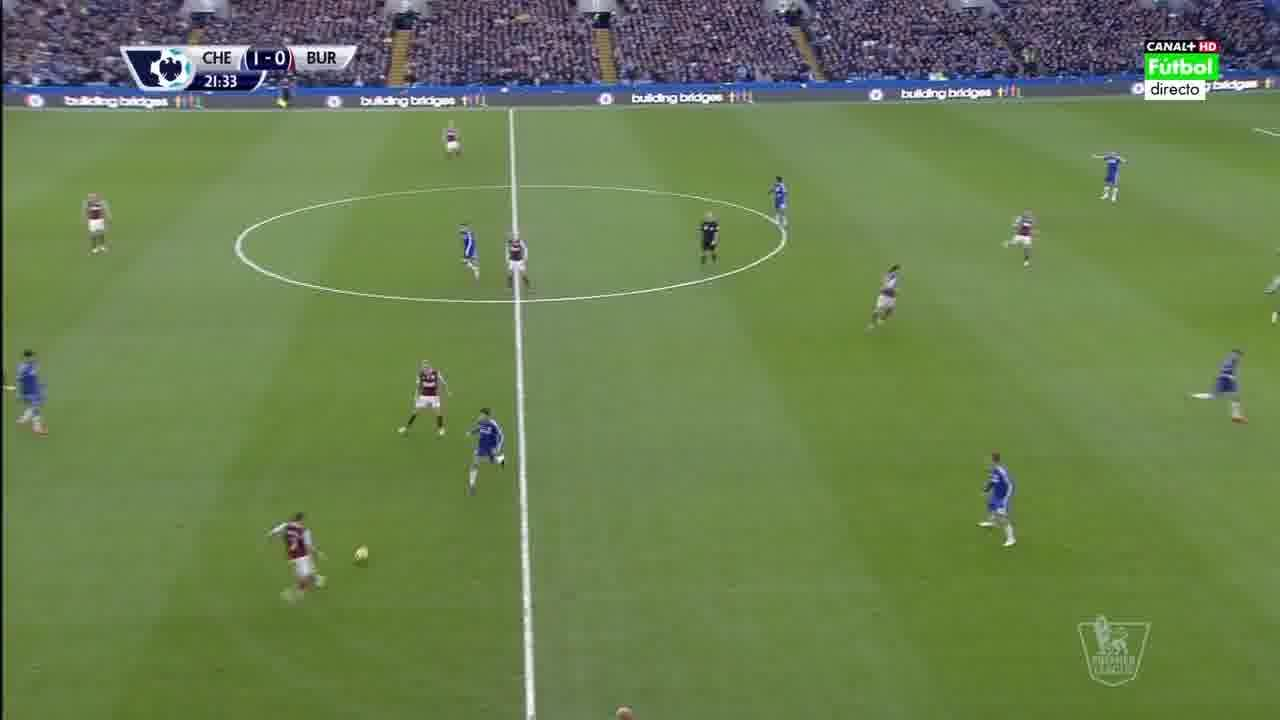football: (352, 543, 368, 561)
